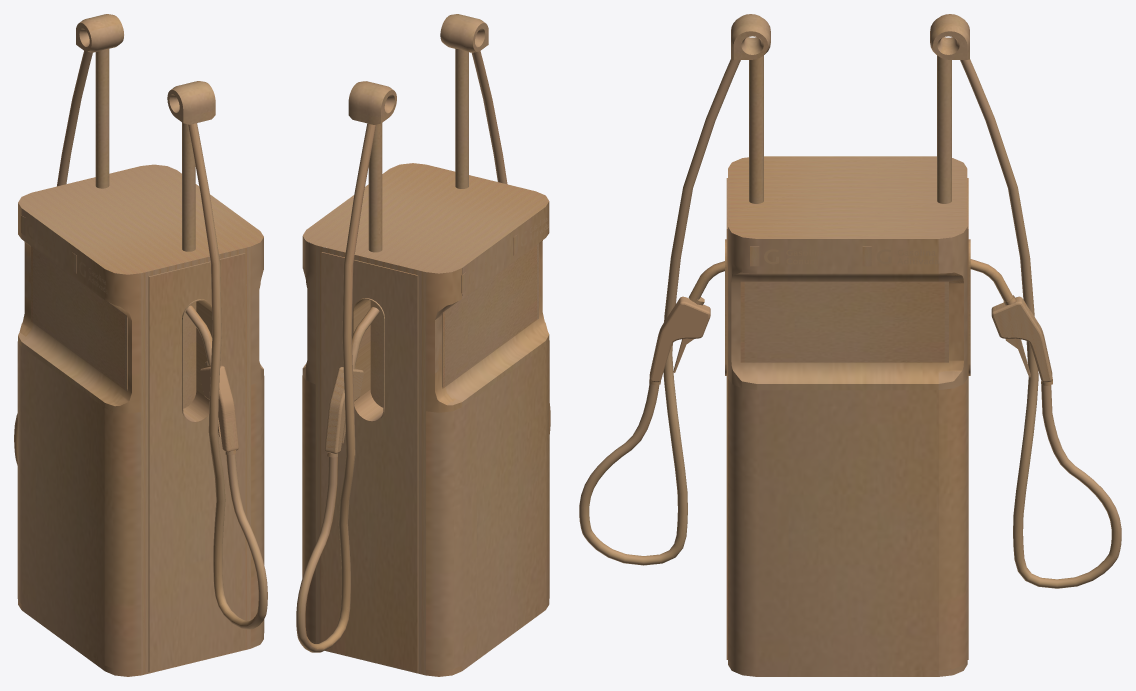
File: 加油站.gltf
3 renders of one model, left to right at view 1: azimuth 30°, elevation 25°; view 2: azimuth 150°, elevation 25°; view 3: azimuth 270°, elevation 25°, orthographic. The views are drawn at different scales.
Visible parts, largest first — view 1: node__-43374; view 2: node__-43374; view 3: node__-43374.
Part boxes in pixels (bbox=[...]): node__-43374: bbox=[14, 14, 267, 676]; node__-43374: bbox=[296, 14, 550, 676]; node__-43374: bbox=[579, 14, 1121, 676].
Size of the model in its own units: 0.0428 by 0.1489 by 0.1184.
